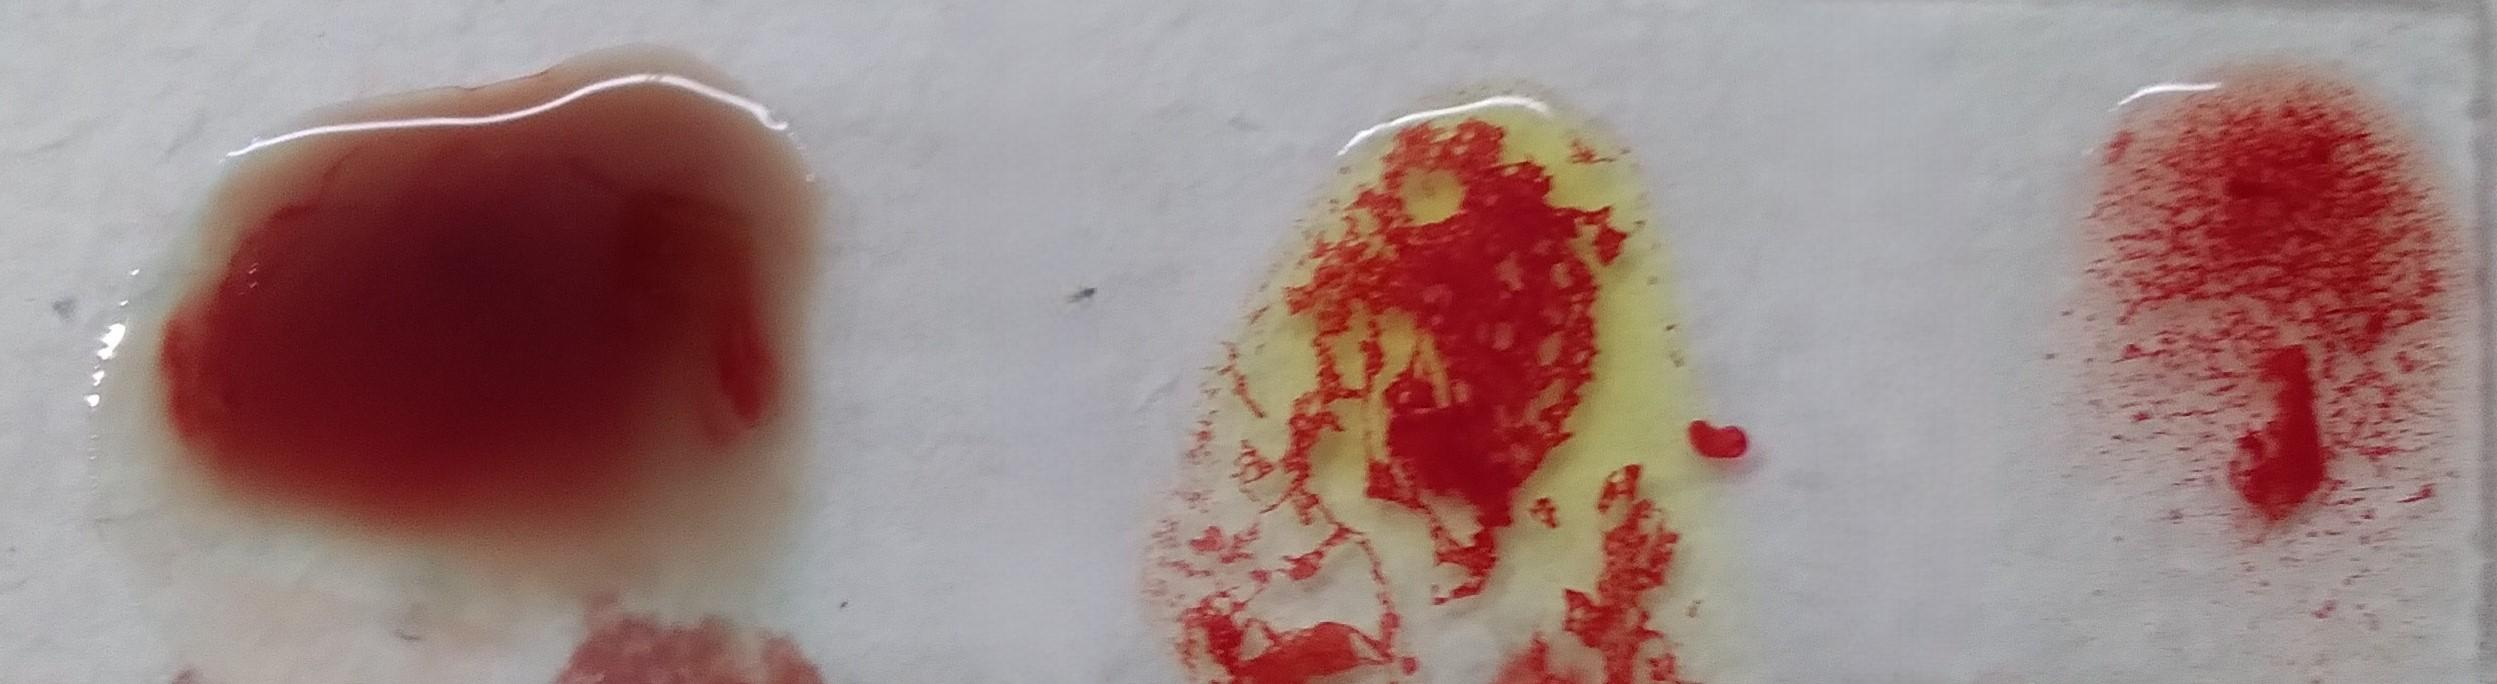B: (1150, 103, 1717, 684)
D: (2126, 91, 2464, 644)
